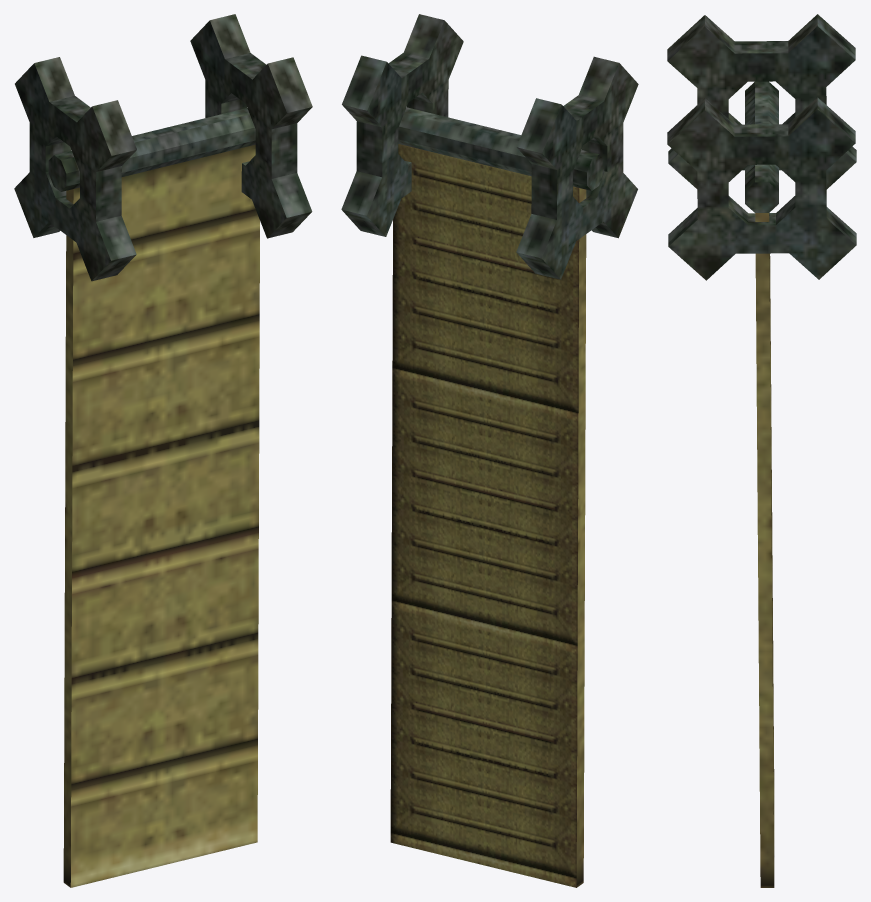
File: Pitbridge.glb
The picture shows the model from 3 angles, left to right: view 1: azimuth 30°, elevation 25°; view 2: azimuth 150°, elevation 25°; view 3: azimuth 270°, elevation 25°; orthographic projection. The views are drawn at different scales.
Parts seen in each view (by area): view 1: Cylinder; view 2: Cylinder; view 3: Cylinder.
Boxes of the visible parts, bbox=[...] form: Cylinder: bbox=[14, 14, 312, 887]; Cylinder: bbox=[341, 14, 638, 887]; Cylinder: bbox=[667, 14, 856, 887].
Bounding box in the file's own units: 3.41 × 12.35 × 2.71.
2 materials, 2 textured.
